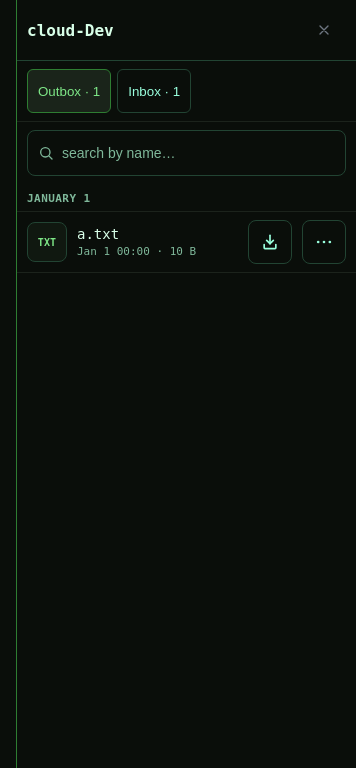
FilesPanel riga file e scatole › il nav mostra le due scatole col conteggio, una accesa
expect the text "a.txt" is shown: met, box [77,226,119,242]
Click the button "Inbox · 1" at point(154, 91), box [117,69,191,113]
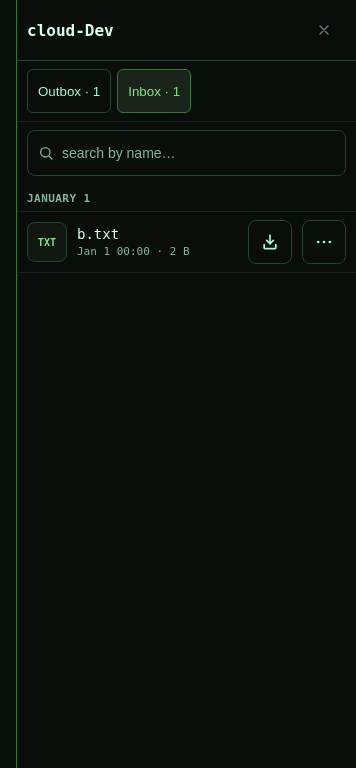
expect the text "b.txt" is shown: met, box [77,226,119,242]
